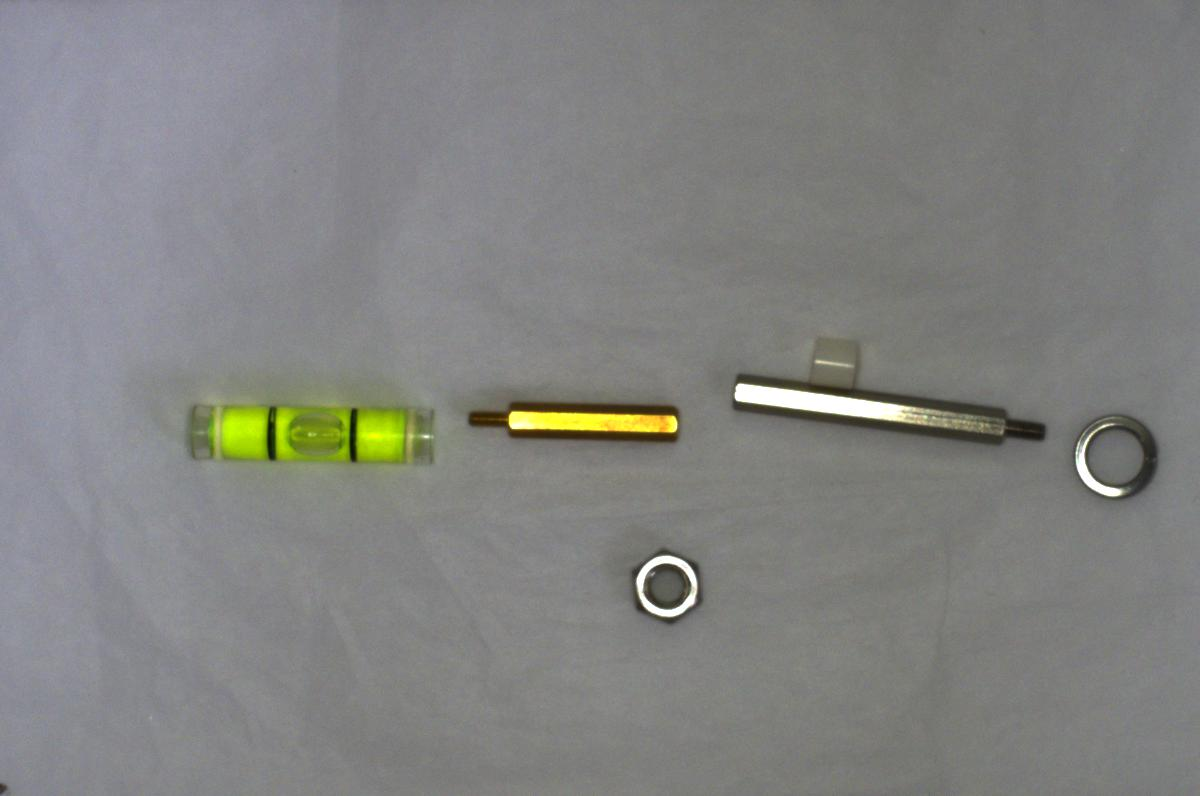Hexagon nut: (614, 540, 712, 626)
Hexagon pillar: (460, 394, 679, 450)
Hexagonal steel column: (726, 367, 1050, 447)
Horizontal bubble: (182, 390, 444, 475)
Plastic cushion pillar: (805, 323, 865, 394)
Spring washer: (1067, 412, 1168, 507)
